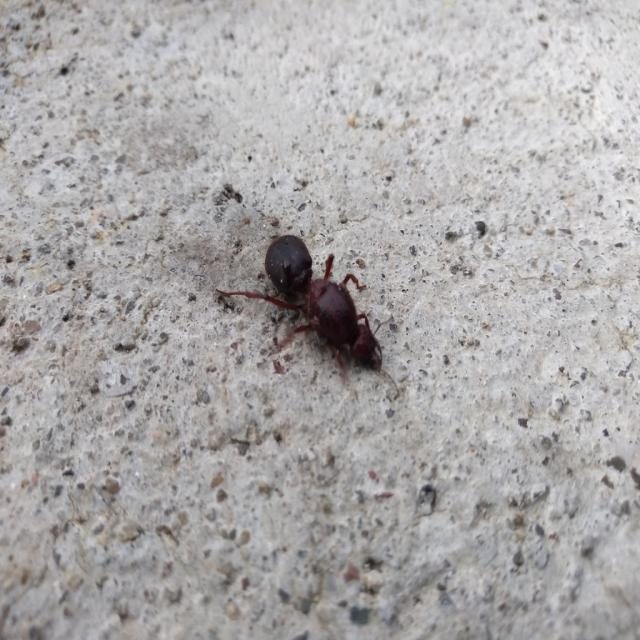Alive-Female-Dealate: (215, 234, 399, 396)
